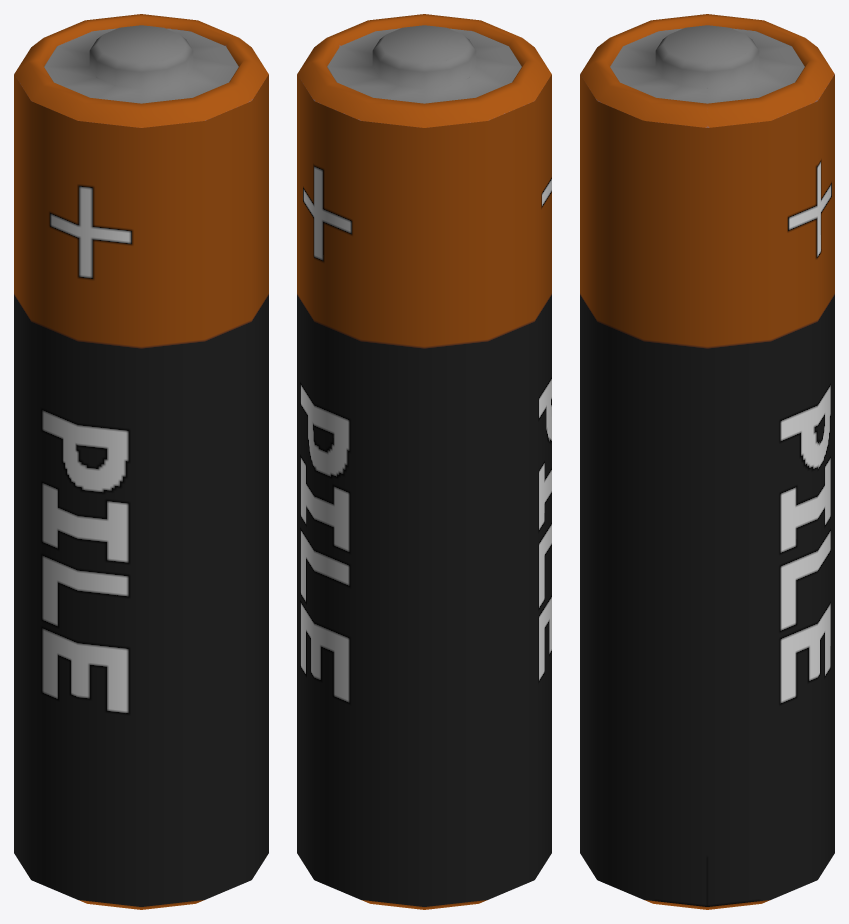
The model's file is FBX_Pile.fbx.
The picture shows the model from 3 angles, left to right: view 1: azimuth 30°, elevation 25°; view 2: azimuth 150°, elevation 25°; view 3: azimuth 270°, elevation 25°; orthographic projection.
Parts seen in each view (by area): view 1: Cylinder; view 2: Cylinder; view 3: Cylinder.
Part boxes in pixels (x1,y1,x2,y2): Cylinder: (14, 14, 268, 909); Cylinder: (297, 14, 551, 909); Cylinder: (580, 14, 834, 909).
Size of the model in its own units: 19.24 by 68.36 by 19.24.
1 material, 1 textured.
